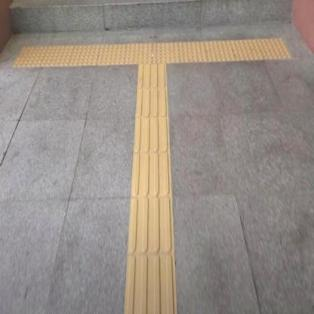Podoctatil: (123, 66, 179, 313), (14, 41, 292, 66)
